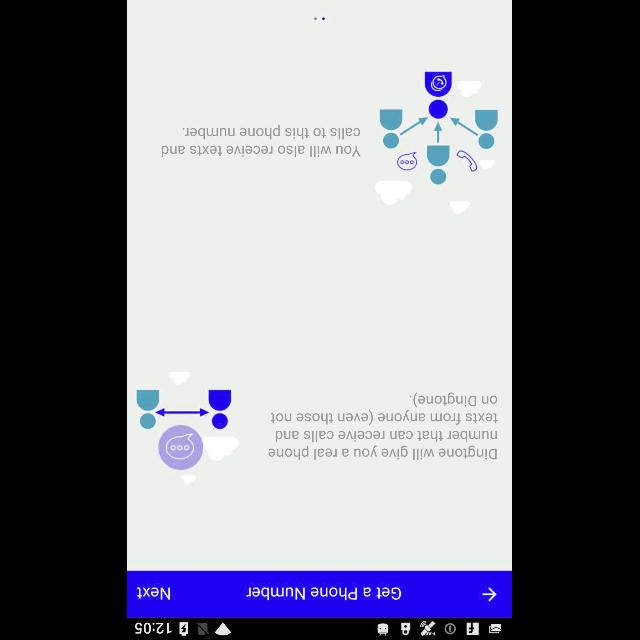icon: (483, 586, 497, 602)
image: (376, 72, 498, 215), (137, 372, 239, 484)
pageindicator: (314, 18, 326, 20)
text: (269, 392, 499, 460), (162, 124, 362, 158), (246, 586, 402, 600), (137, 586, 171, 600)
toolbar: (128, 571, 512, 617)
uppertaskbar: (128, 617, 512, 639)
